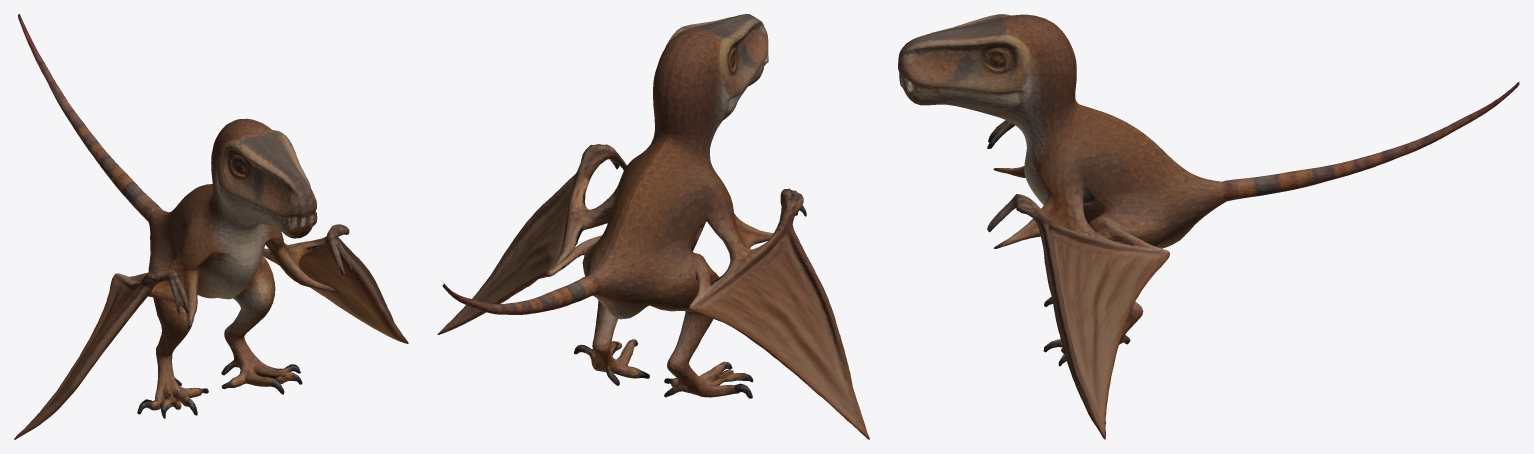
The picture shows the model from 3 angles, left to right: view 1: azimuth 30°, elevation 25°; view 2: azimuth 150°, elevation 25°; view 3: azimuth 270°, elevation 25°; orthographic projection. The views are drawn at different scales.
Parts seen in each view (by area): view 1: world; view 2: world; view 3: world.
Part boxes in pixels (left/top/right/bottom): world: left=14, top=14, right=408, bottom=439; world: left=437, top=14, right=869, bottom=439; world: left=898, top=14, right=1519, bottom=439.
Size of the model in its own units: 0.7904 by 0.5665 by 1.
1 material, 1 textured.
